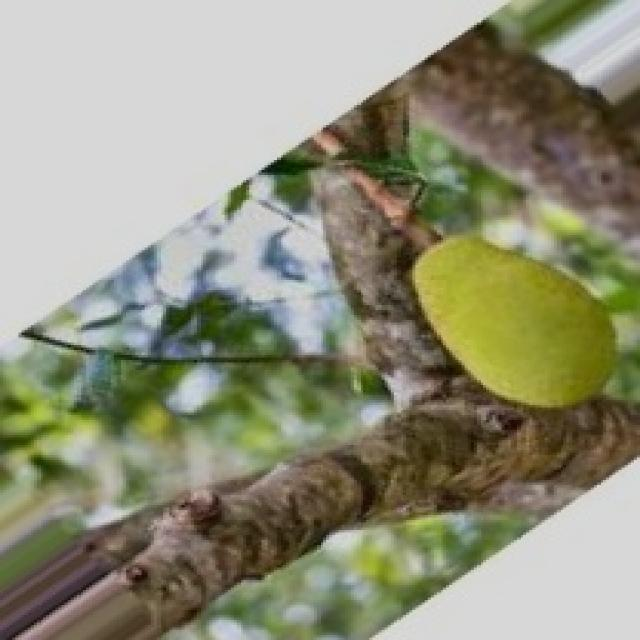Fruit: (387, 205, 640, 442)
